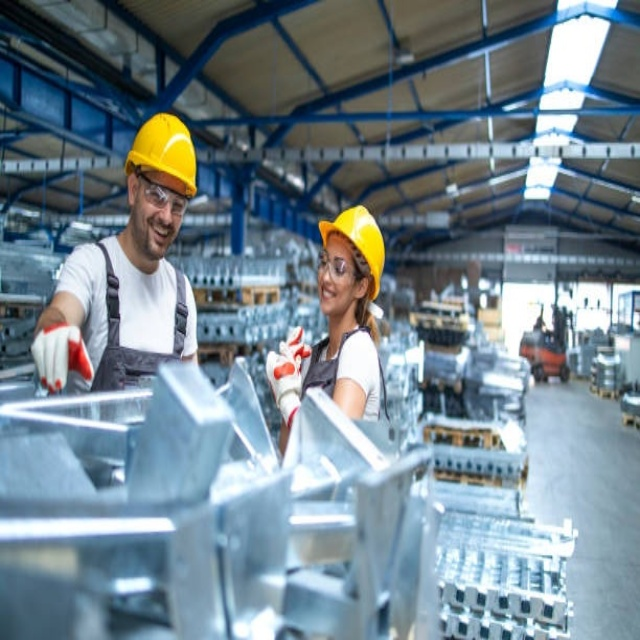Gafas: (140, 168, 192, 220), (316, 248, 359, 279)
Guantes: (30, 322, 94, 393), (265, 347, 305, 419), (281, 326, 312, 369)
Sin_mascara: (318, 284, 340, 311)
